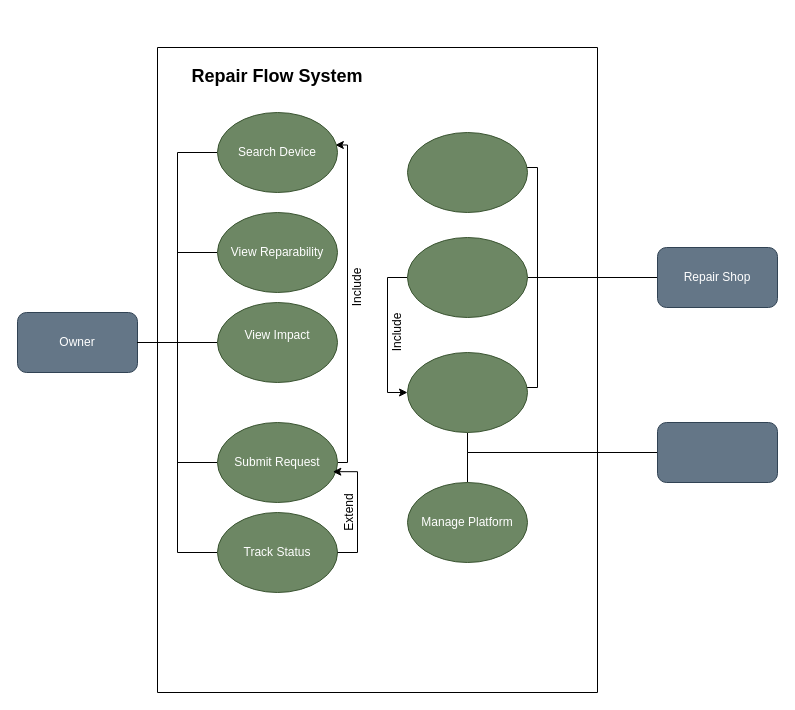
Some shapes in this 795 by 710 pixel diagram are drawn without their labels. The shapes that lost their labels are listed below. From the top down, each one's box as (x1, y1, x2, y2) in pixels, then its label:
(406, 132, 528, 212): Register & verify
(406, 236, 528, 318): Manage Requests
(406, 352, 528, 432): Update Parts
(656, 422, 778, 482): Admin
